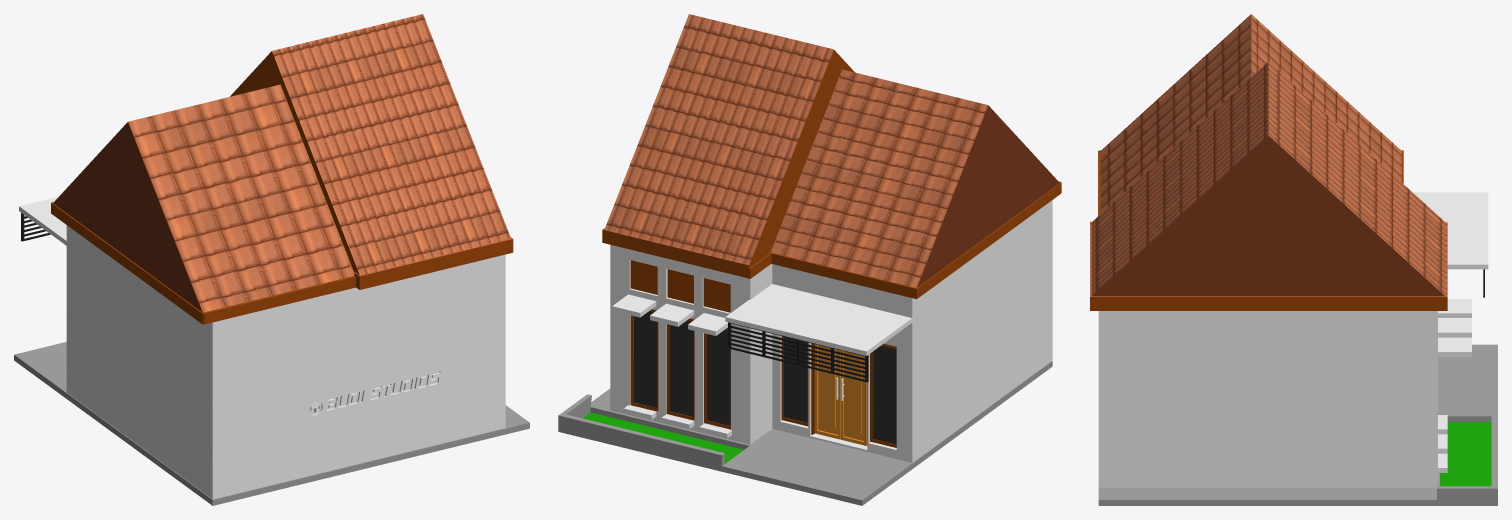
The model's file is low_density.glb.
3 views of the same model, side by side, from view 1: azimuth 30°, elevation 25°; view 2: azimuth 150°, elevation 25°; view 3: azimuth 270°, elevation 25° (orthographic). The views are drawn at different scales.
Visible parts, largest first — view 1: Cube.001, Genteng, Cube.008, Cube, Cube.006; view 2: Cube.001, Genteng, Cube.008, Cube, Cube.006, Jendela.002, Jendela.004, Jendela.001, Jendela, besi kanopi, Jendela.003, Pintu.002 (+6 smaller); view 3: Cube.008, Cube.001, Cube, Genteng, Cube.006, Cube.003, Cube.007.
Part boxes in pixels (left/top/right/bottom): Cube.001: left=66, top=225, right=505, bottom=499; Genteng: left=51, top=84, right=355, bottom=324; Cube.008: left=230, top=14, right=513, bottom=289; Cube: left=14, top=342, right=529, bottom=505; Cube.006: left=19, top=196, right=66, bottom=245; Cube.001: left=610, top=200, right=1052, bottom=462; Genteng: left=748, top=69, right=1061, bottom=299; Cube.008: left=602, top=14, right=854, bottom=278; Cube: left=558, top=361, right=1052, bottom=505; Cube.006: left=725, top=284, right=912, bottom=355; Jendela.002: left=630, top=309, right=658, bottom=411; Jendela.004: left=870, top=343, right=896, bottom=447; Jendela.001: left=667, top=318, right=694, bottom=420; Jendela: left=704, top=328, right=730, bottom=429; besi kanopi: left=730, top=323, right=865, bottom=381; Jendela.003: left=781, top=336, right=808, bottom=426; Pintu.002: left=841, top=350, right=866, bottom=445; Cube.008: left=1090, top=61, right=1447, bottom=310; Cube.001: left=1098, top=311, right=1437, bottom=487; Cube: left=1098, top=344, right=1497, bottom=505; Genteng: left=1098, top=14, right=1403, bottom=215; Cube.006: left=1413, top=192, right=1488, bottom=269; Cube.003: left=1438, top=299, right=1471, bottom=356; Cube.007: left=1438, top=415, right=1447, bottom=472.
Size of the model in its own units: 22.35 by 23.37 by 24.02.
20 materials, 1 textured.
